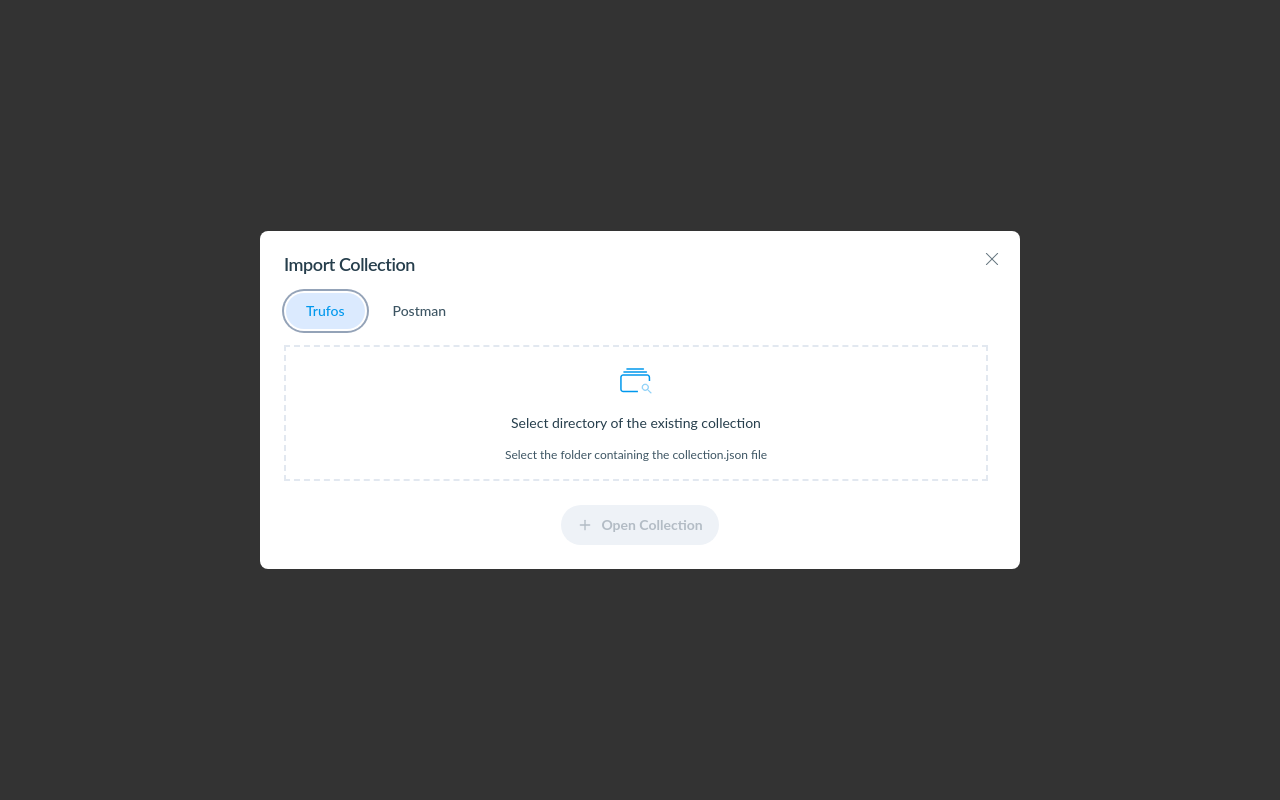
CollectionImport › accepts the file types of a file importer
Click the tab "Postman" at (419, 311), box [372, 293, 466, 329]
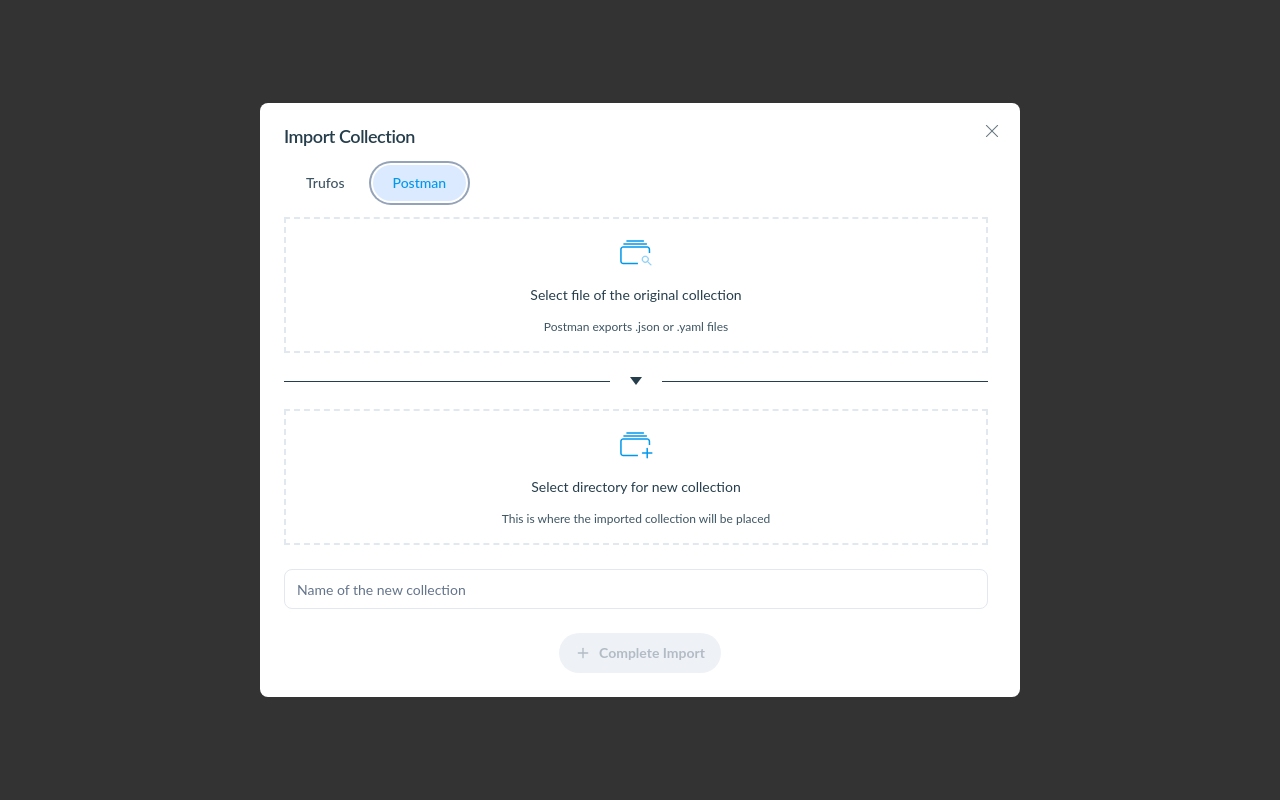
Now the text "Postman exports .json or .yaml files" is shown, box [544, 320, 728, 335]
